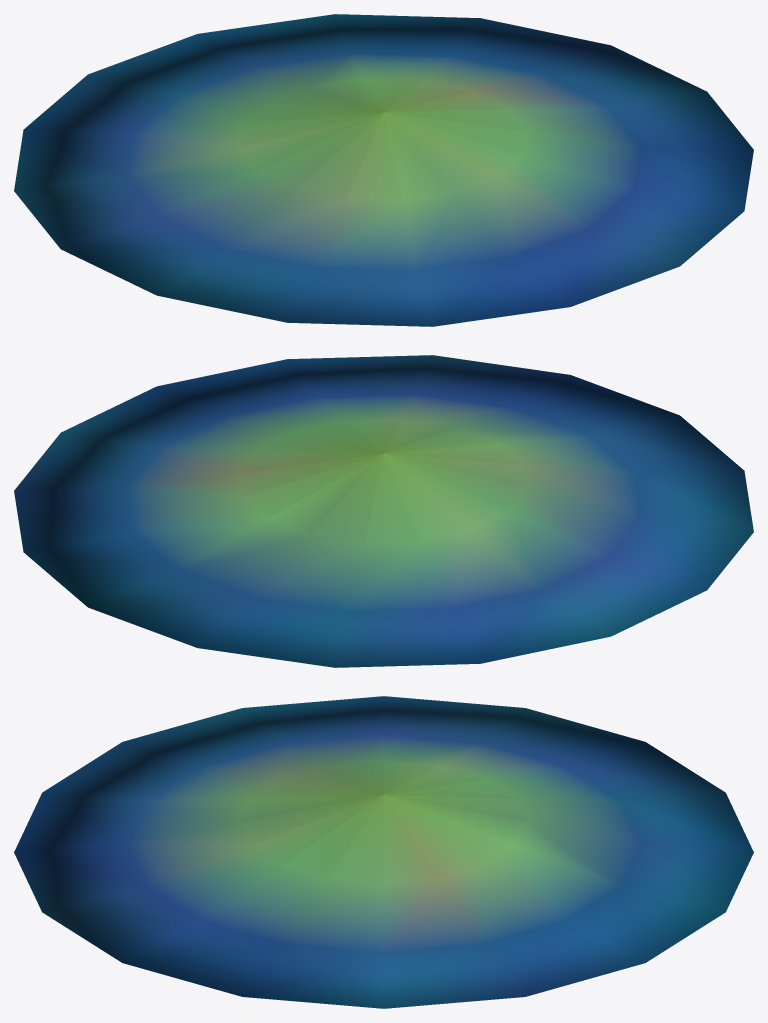
The model's file is space-galaxies-galaxy_v3.glb.
3 renders of one model, top to bottom at view 1: azimuth 30°, elevation 25°; view 2: azimuth 150°, elevation 25°; view 3: azimuth 270°, elevation 25°, orthographic.
Visible parts, largest first — view 1: Galaxy_v3; view 2: Galaxy_v3; view 3: Galaxy_v3.
Part boxes in pixels (x1,y1,x2,y2): Galaxy_v3: (14, 14, 753, 326); Galaxy_v3: (14, 355, 753, 667); Galaxy_v3: (14, 696, 753, 1008).
Bounding box in the file's own units: 0.5 × 0.078 × 0.5.
